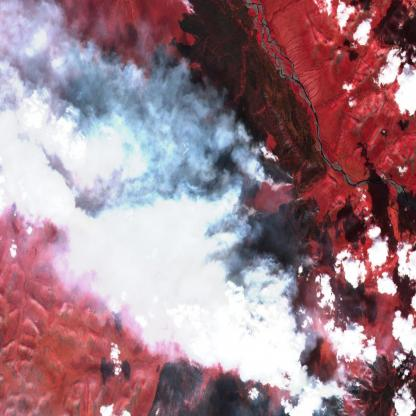fire: (0, 11, 347, 416)
